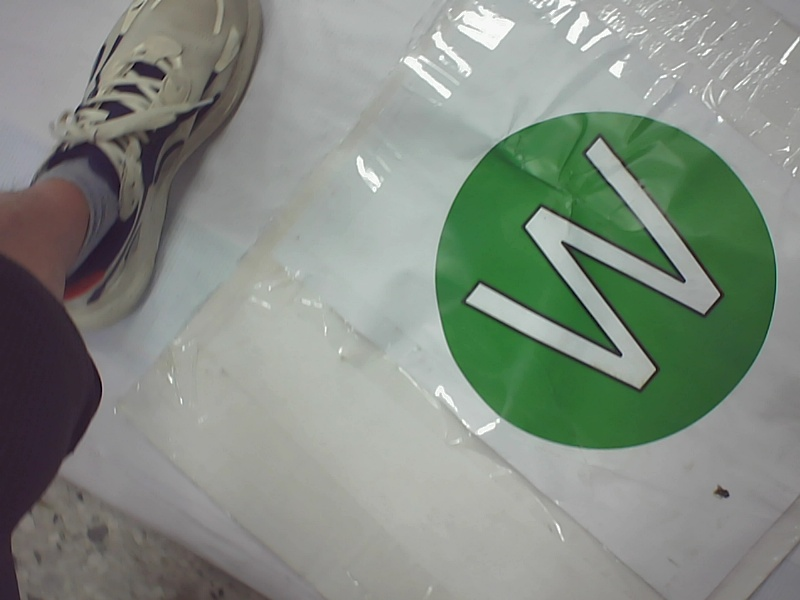areaB: (425, 99, 781, 468)
